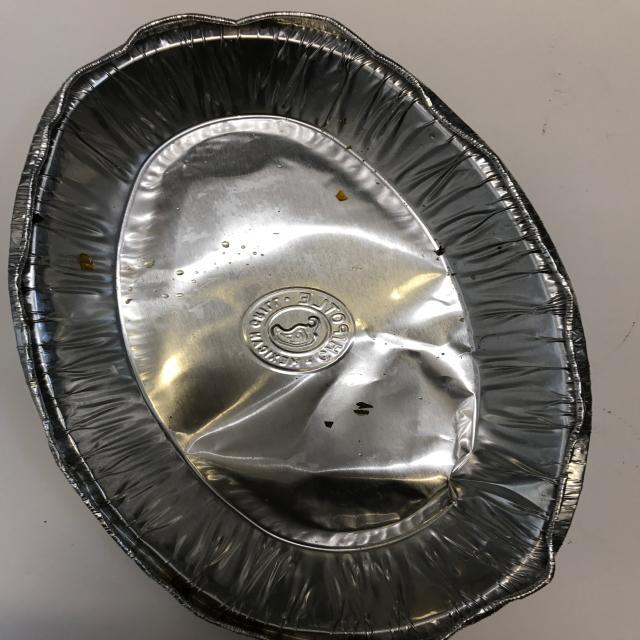metal: (9, 9, 594, 640)
